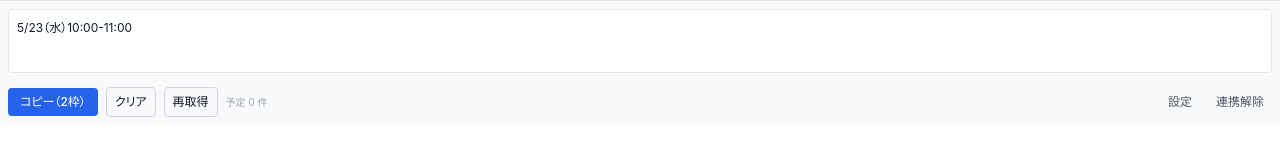
Toolbar › コピー失敗時はエラーメッセージを表示する
Step 1. Click the button "コピー（2枠）" → click(53, 102), box [8,88,98,116]
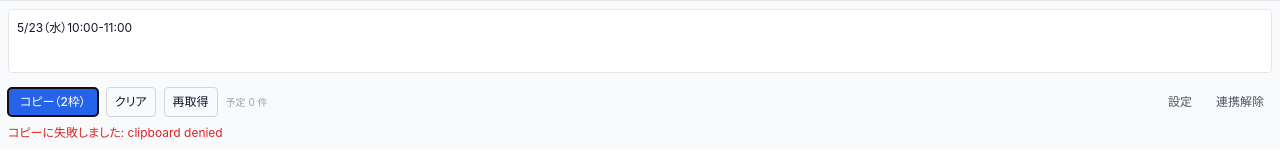
expect the text "コピーに失敗しました: clipboard denied" is shown: met, box [8,125,223,140]
